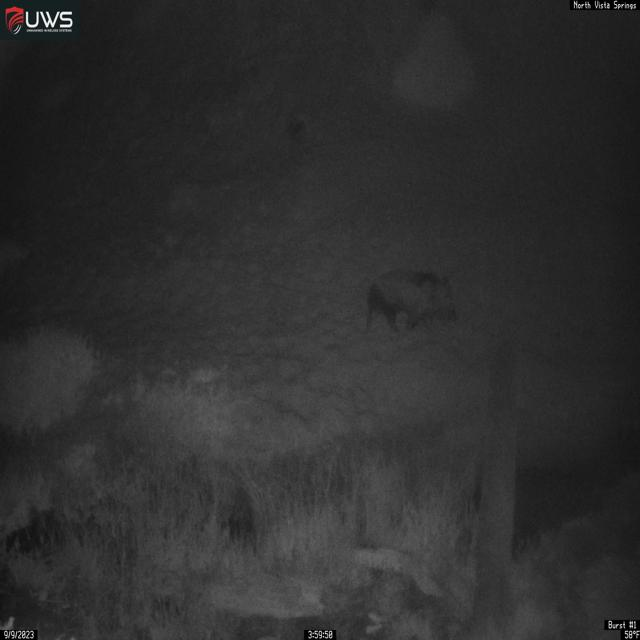pig: (364, 268, 459, 335)
